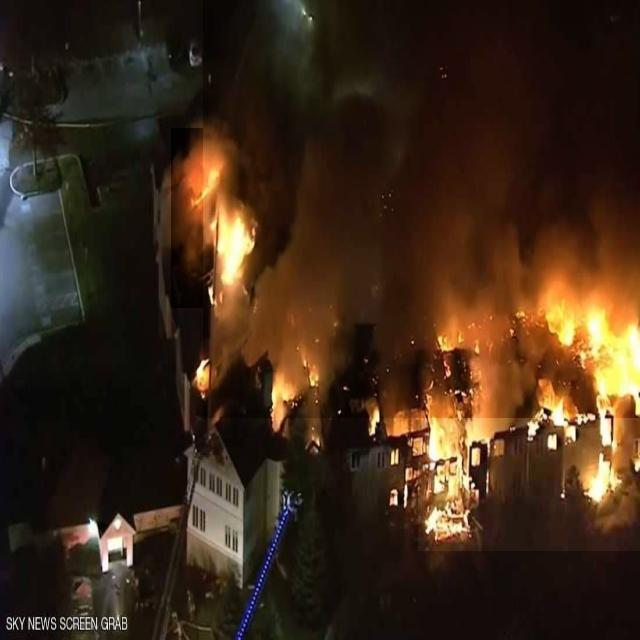Fire: (418, 302, 640, 551), (171, 128, 260, 308)
Smoke: (203, 0, 640, 418)
